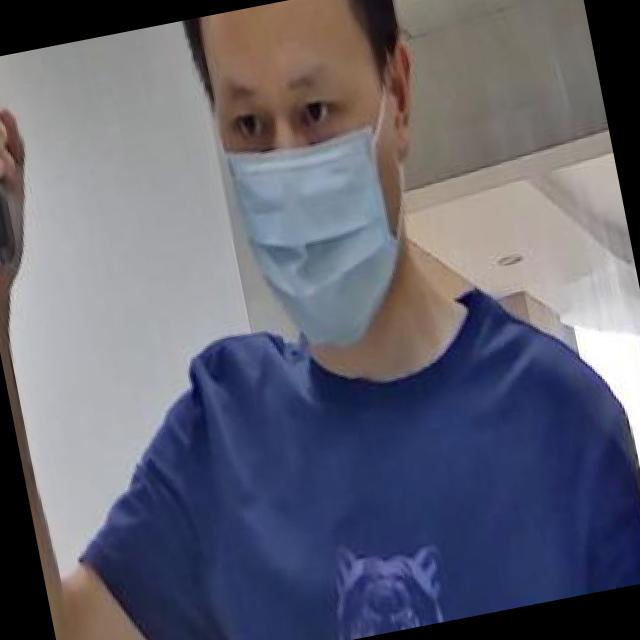Guns: (0, 48, 87, 314)
